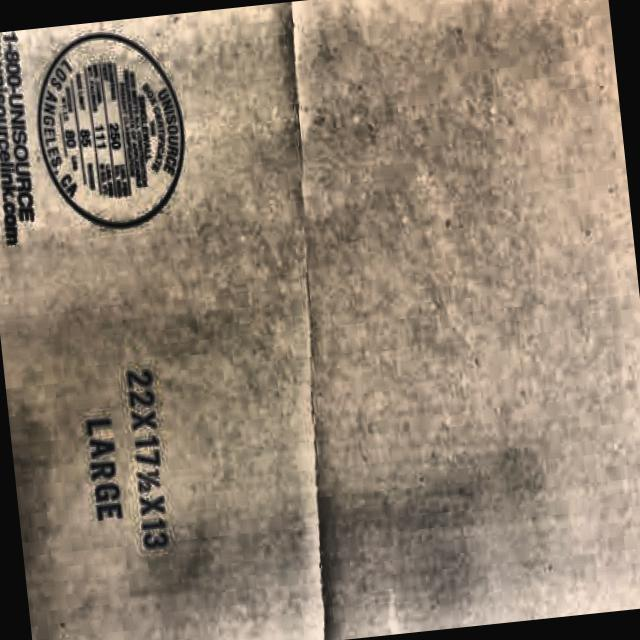cardboard: (0, 1, 361, 640)
